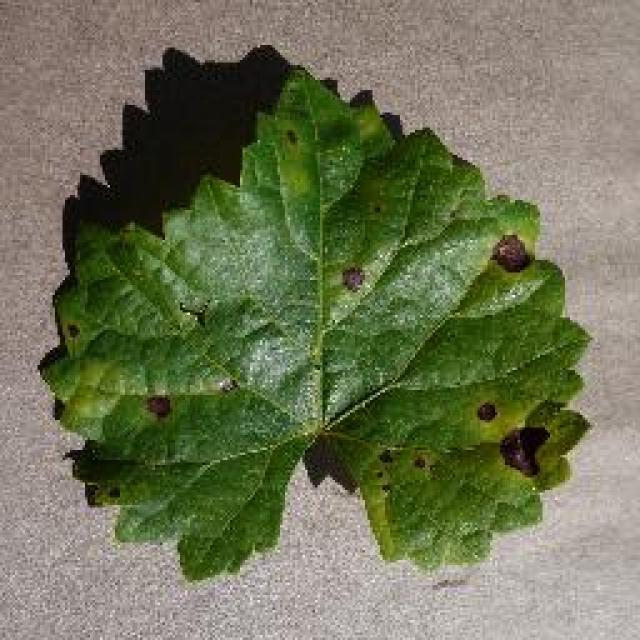Grape___Black_rot: (34, 63, 598, 587)
